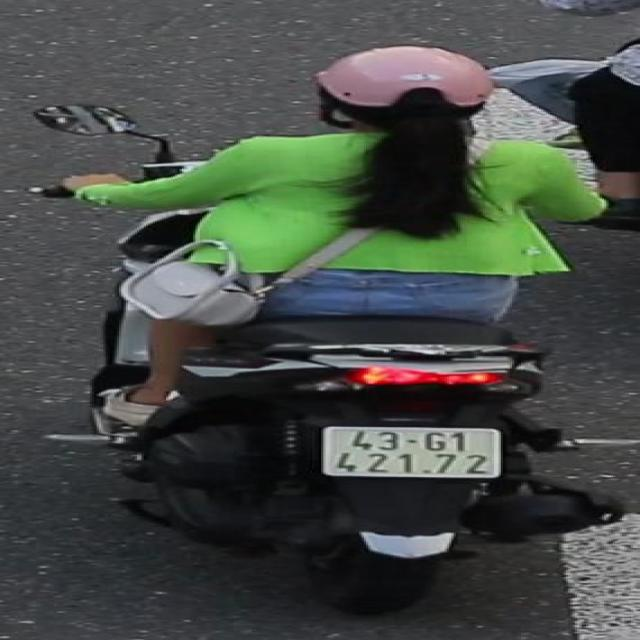LP: (316, 424, 513, 485)
helmet: (305, 39, 501, 141)
